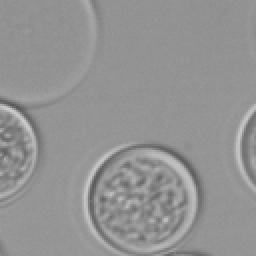picoshell: (82, 140, 200, 254), (0, 100, 40, 206), (234, 104, 254, 192)
